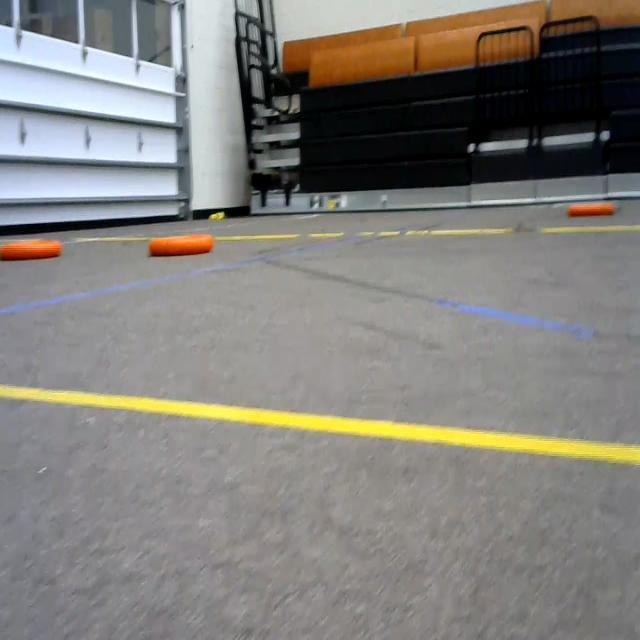note: (148, 226, 214, 260), (0, 237, 64, 267), (568, 200, 620, 221)
